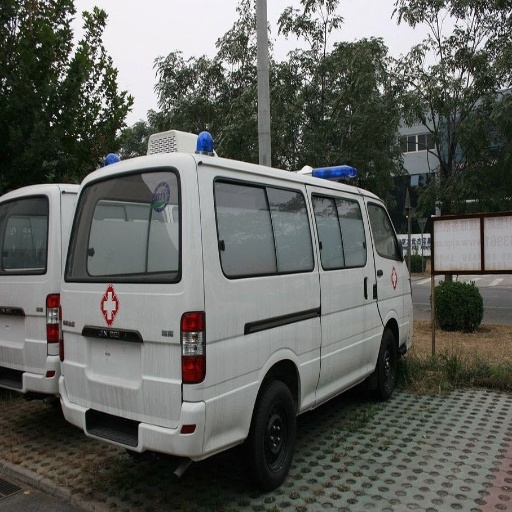back_bumper: (114, 402, 231, 456)
back_glass: (95, 227, 151, 276)
back_left_door: (345, 226, 381, 342)
back_right_door: (211, 172, 340, 277), (91, 174, 134, 249)
trunk: (61, 288, 313, 441)
